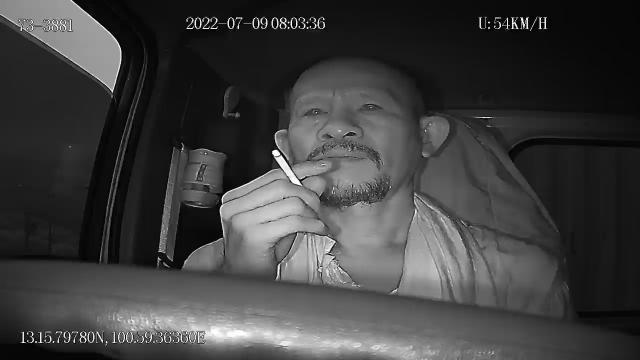SafeDriving: (294, 98, 332, 125), (352, 94, 389, 120)
Smoking: (272, 148, 304, 188)
